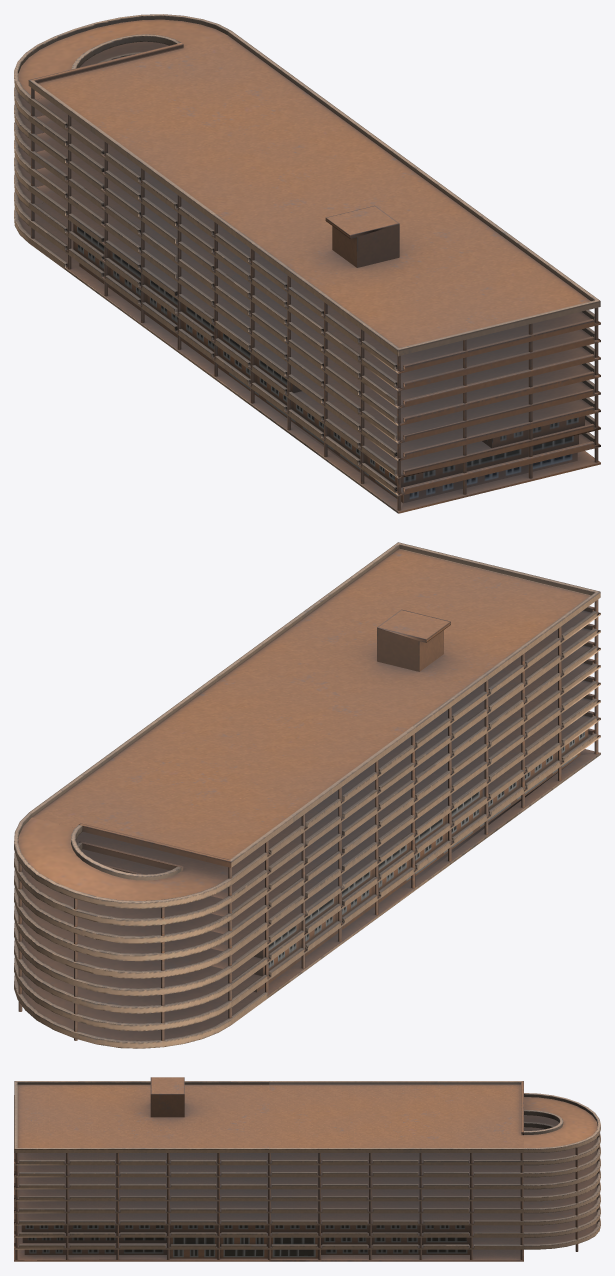
Rendered from Parking.glb.
3 renders of one model, top to bottom at view 1: azimuth 30°, elevation 25°; view 2: azimuth 150°, elevation 25°; view 3: azimuth 270°, elevation 25°, orthographic. The views are drawn at different scales.
Parts seen in each view (by area): view 1: Parking; view 2: Parking; view 3: Parking.
Boxes of the visible parts, x1,y1,x2,y2 form: Parking: (14,14,600,513); Parking: (14,542,600,1048); Parking: (14,1077,600,1261).
Bounding box in the file's own units: 16.17 × 14.74 × 58.82.
Materials: 8 (8 with a texture image).
